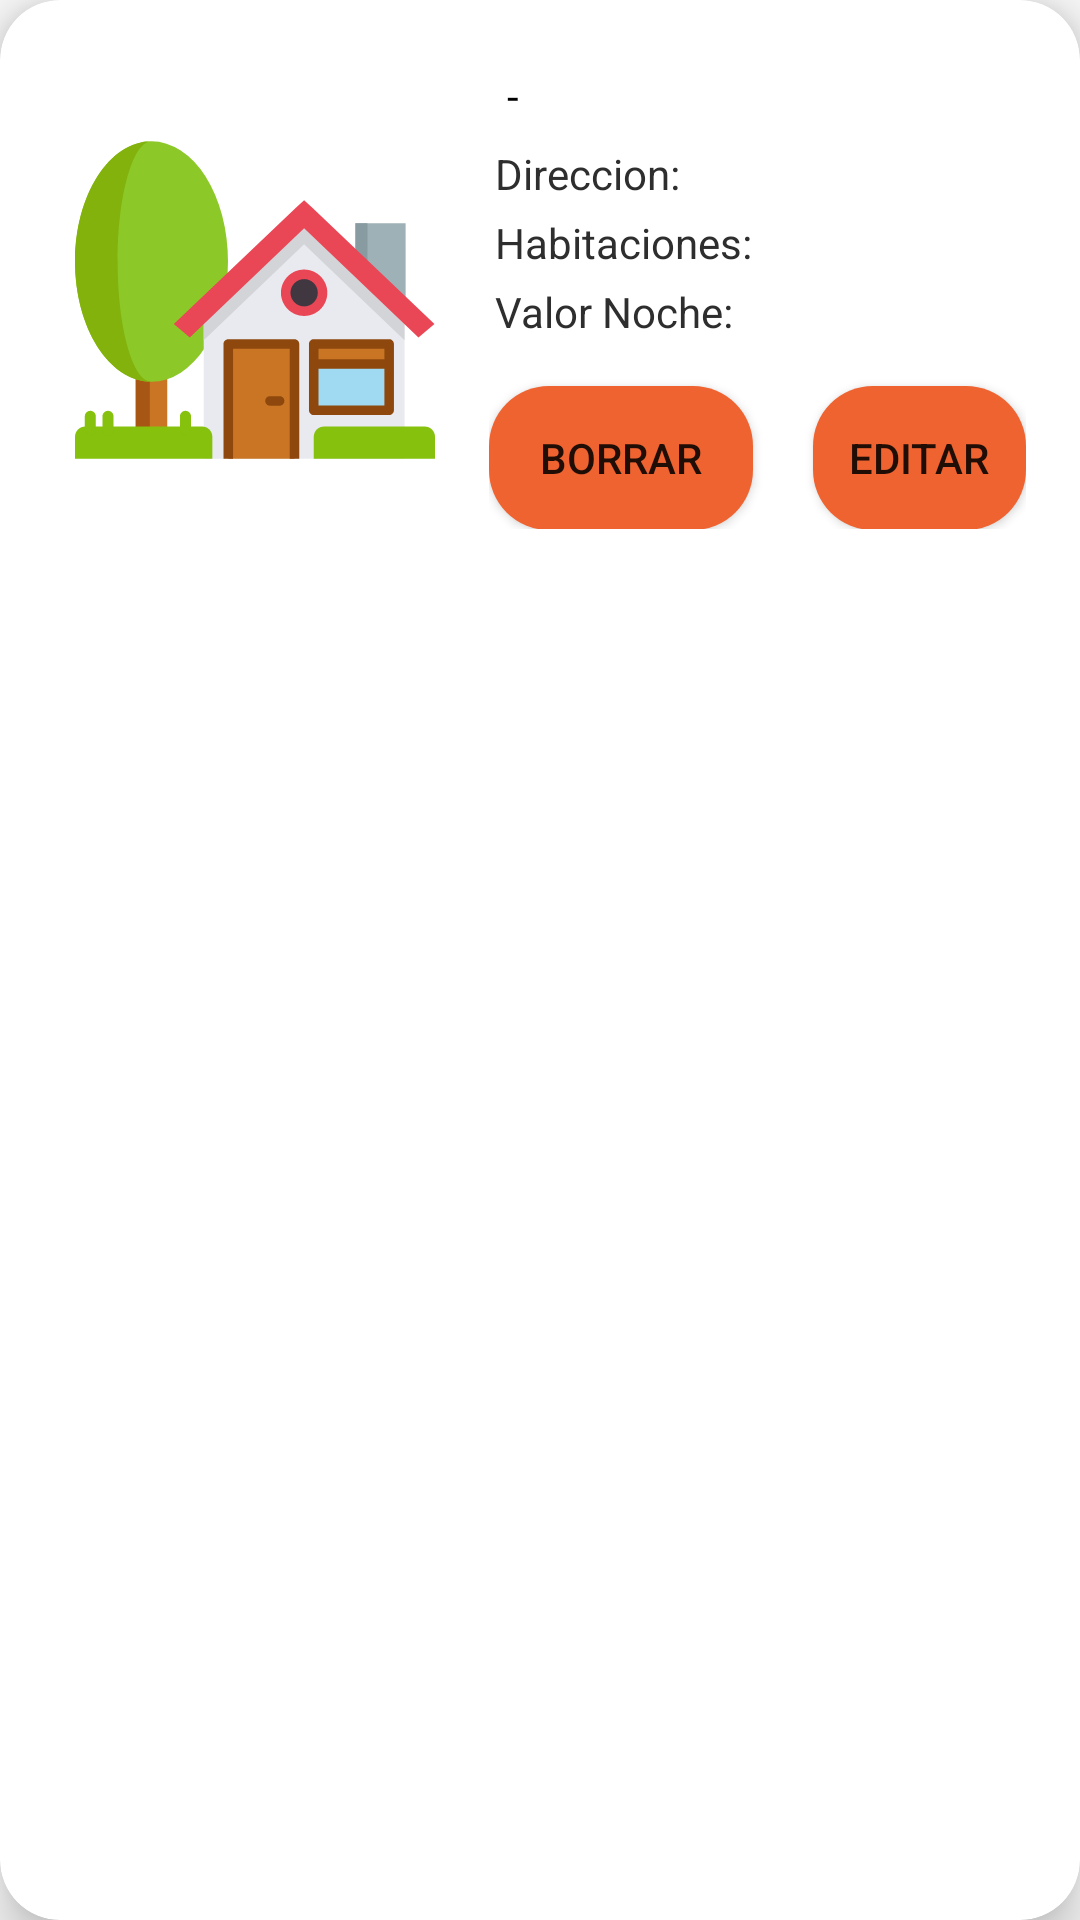

Screen size 1080px×1920px. Icon name, then its center in pixels as point (x, y):
house: point (255, 300)
